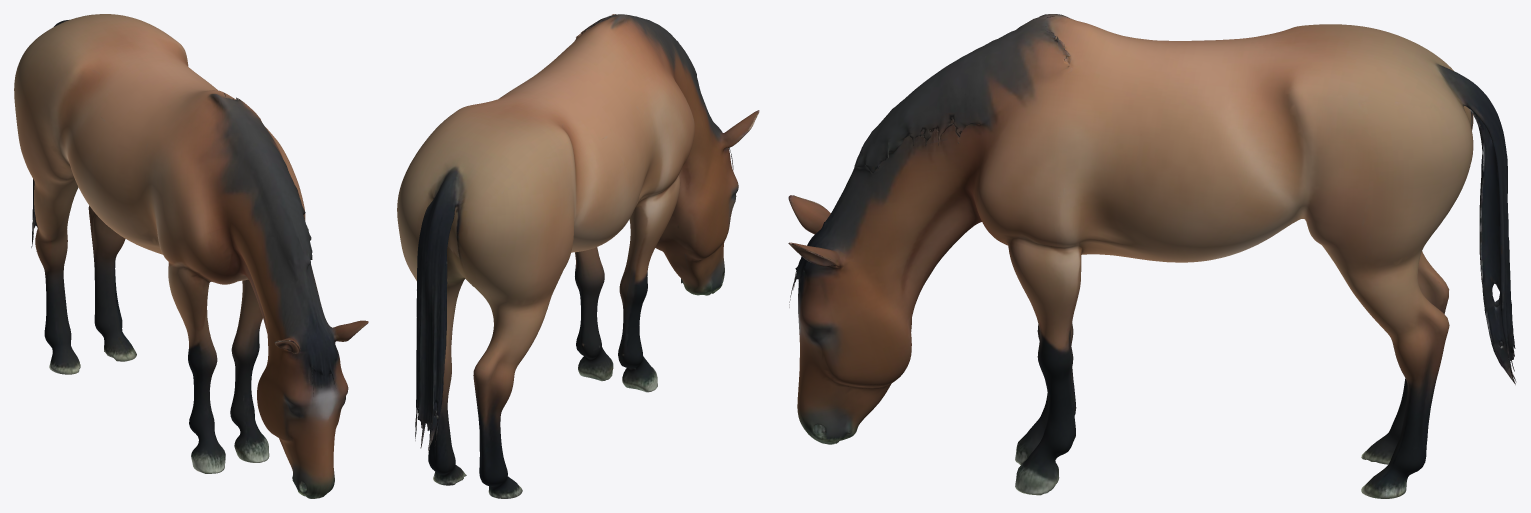
The model's file is horse_grazing.glb.
3 views of the same model, side by side, from view 1: azimuth 30°, elevation 25°; view 2: azimuth 150°, elevation 25°; view 3: azimuth 270°, elevation 25° (orthographic). The views are drawn at different scales.
Visible parts, largest first — view 1: model; view 2: model; view 3: model.
Boxes of the visible parts, x1=… form: model: x1=14, y1=14, x2=368, y2=498; model: x1=397, y1=14, x2=759, y2=498; model: x1=788, y1=14, x2=1516, y2=498.
Size of the model in its own units: 0.5542 by 1.31 by 1.89.
1 material, 1 textured.
